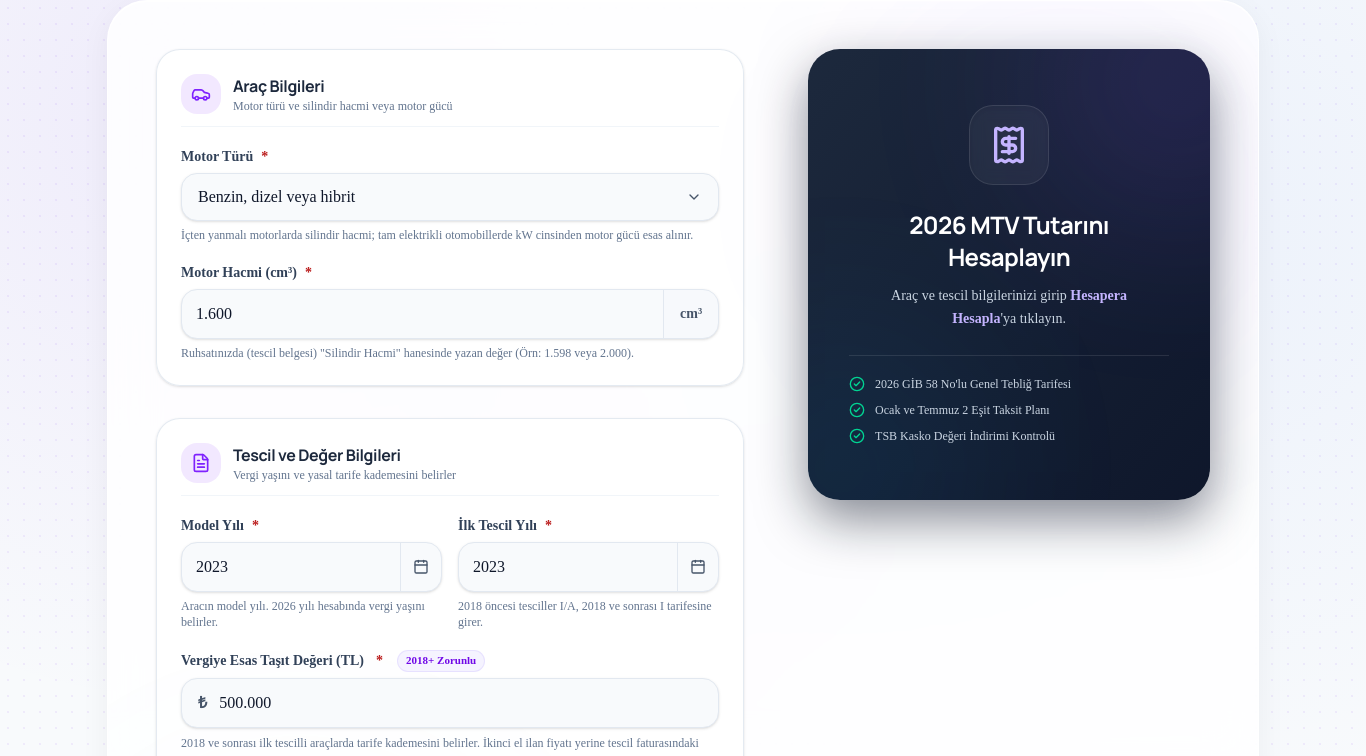
Test case: MTV Form Component (MtvForm) › 5. geçersiz girişlerde (ör. tescil yılı model yılından önce) açık doğrulama hatası gösterir
Replace the text in the field labelled "İlk Tescil Yılı *" with "2020" at (568, 567), box 459,543 -> 677,591
(page scrolled)
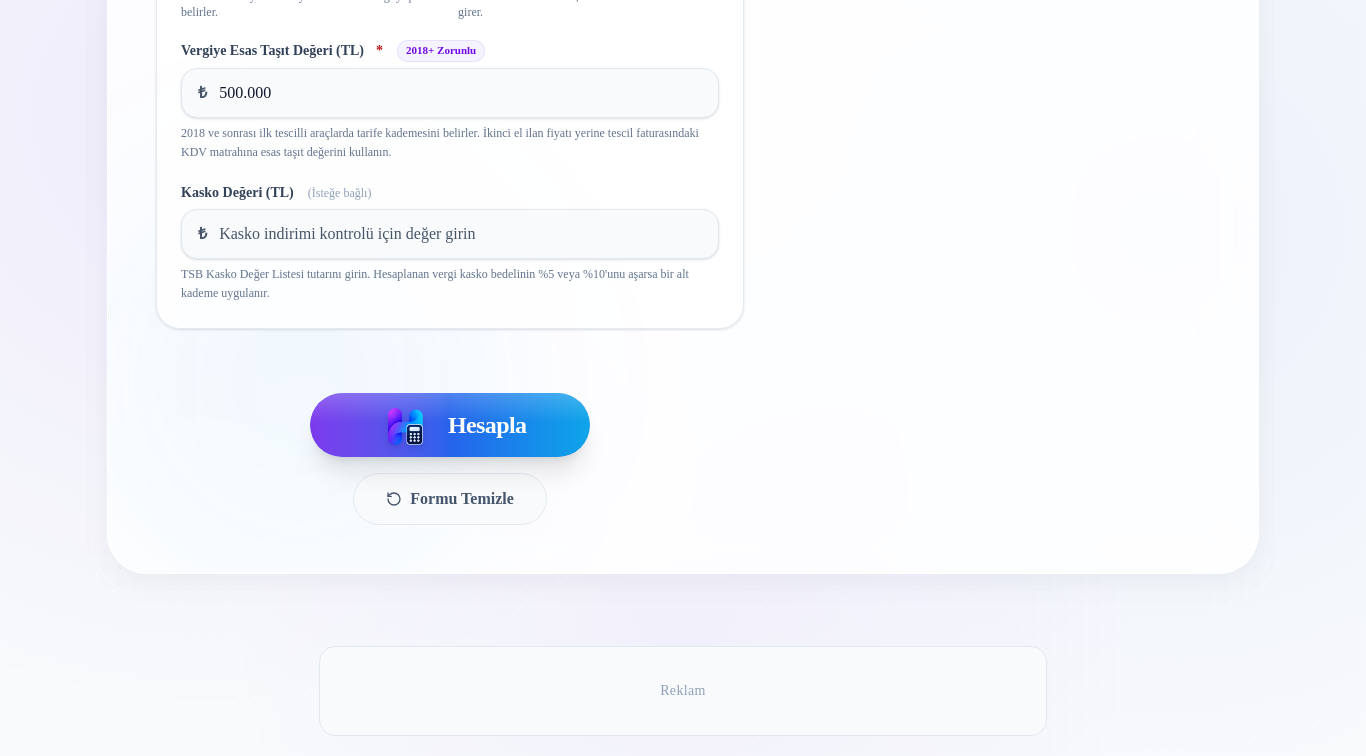
Click the button "Hesapla" at (450, 425), box 310,393 -> 590,457
(page scrolled)
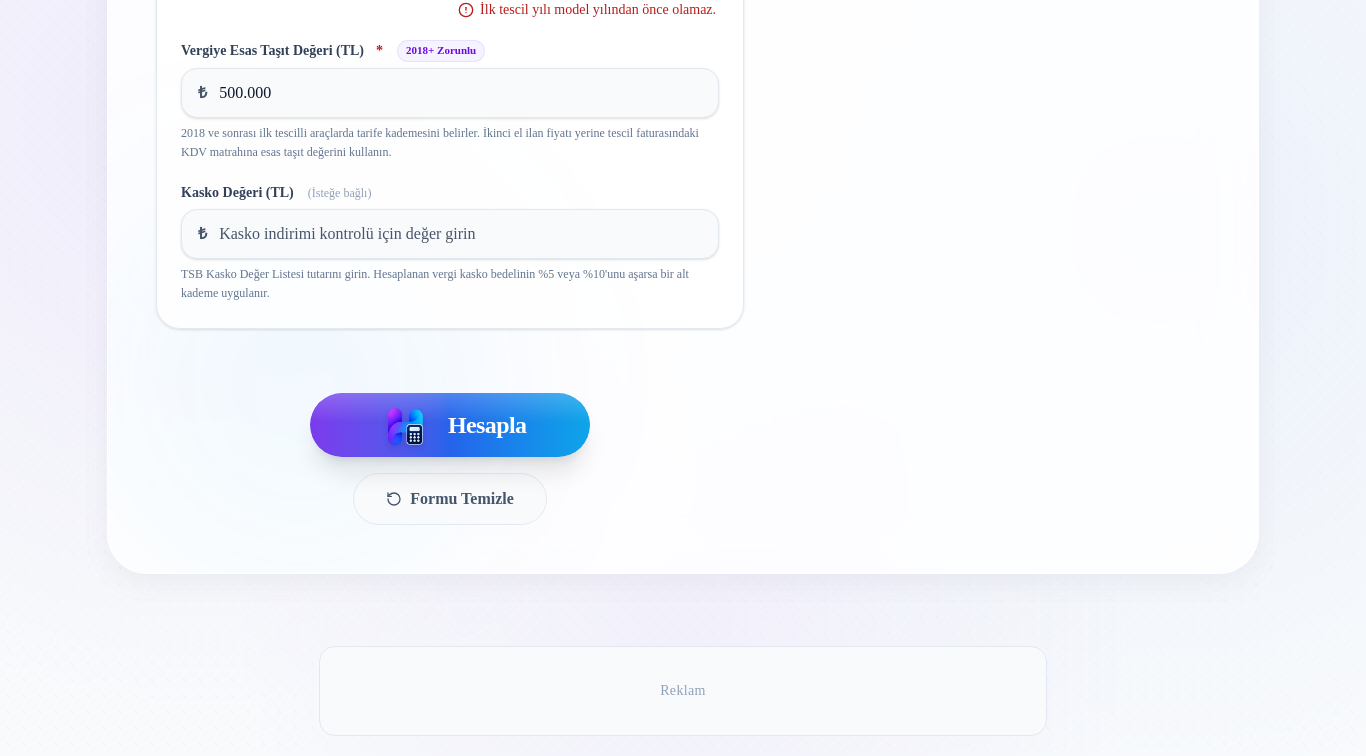
Now the text "İlk tescil yılı model yılından önce olamaz." is shown, box 458,0 -> 719,20
